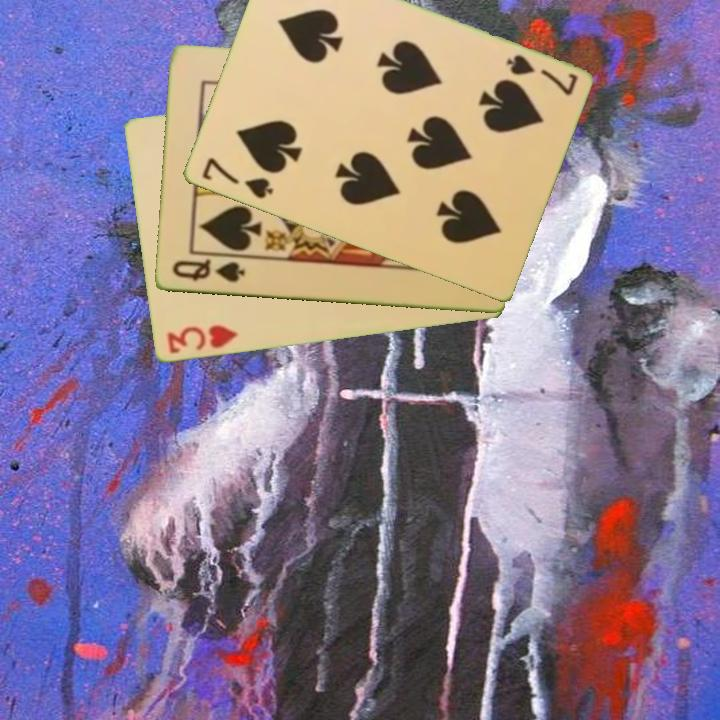3h: (163, 321, 240, 357)
7s: (198, 154, 276, 202), (502, 51, 580, 99)
Qs: (168, 256, 247, 286)
